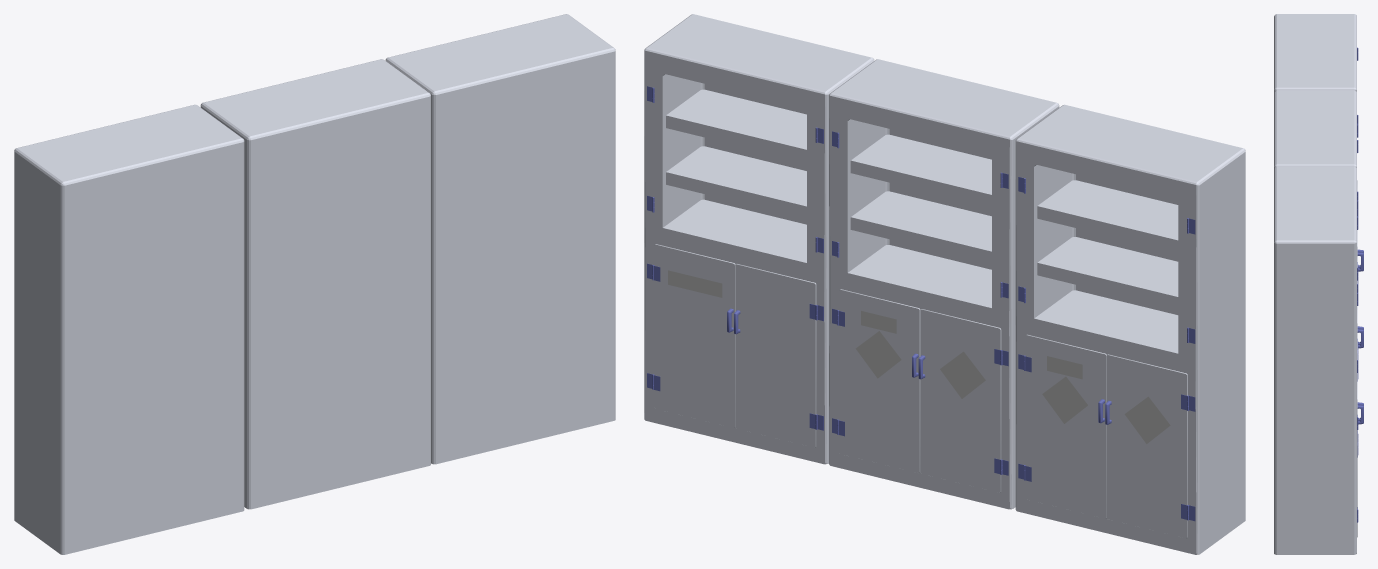
The model's file is SM_药品柜.fbx.
The picture shows the model from 3 angles, left to right: view 1: azimuth 30°, elevation 25°; view 2: azimuth 150°, elevation 25°; view 3: azimuth 270°, elevation 25°; orthographic projection. The views are drawn at different scales.
Parts seen in each view (by area): view 1: SM_药品柜; view 2: SM_药品柜; view 3: SM_药品柜.
Part boxes in pixels (bbox=[...]): SM_药品柜: bbox=[14, 14, 615, 554]; SM_药品柜: bbox=[644, 14, 1245, 554]; SM_药品柜: bbox=[1274, 14, 1363, 554].
Bounding box in the file's own units: 3.34 × 2.14 × 0.555.
